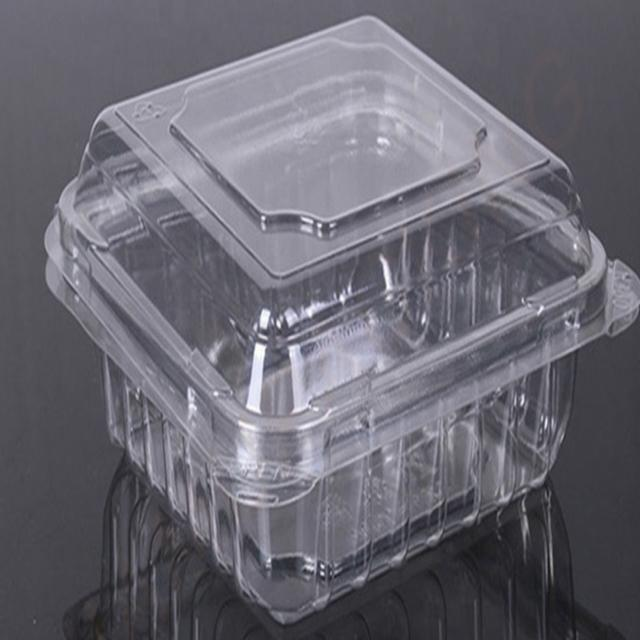Anorganik: (28, 6, 640, 636)
